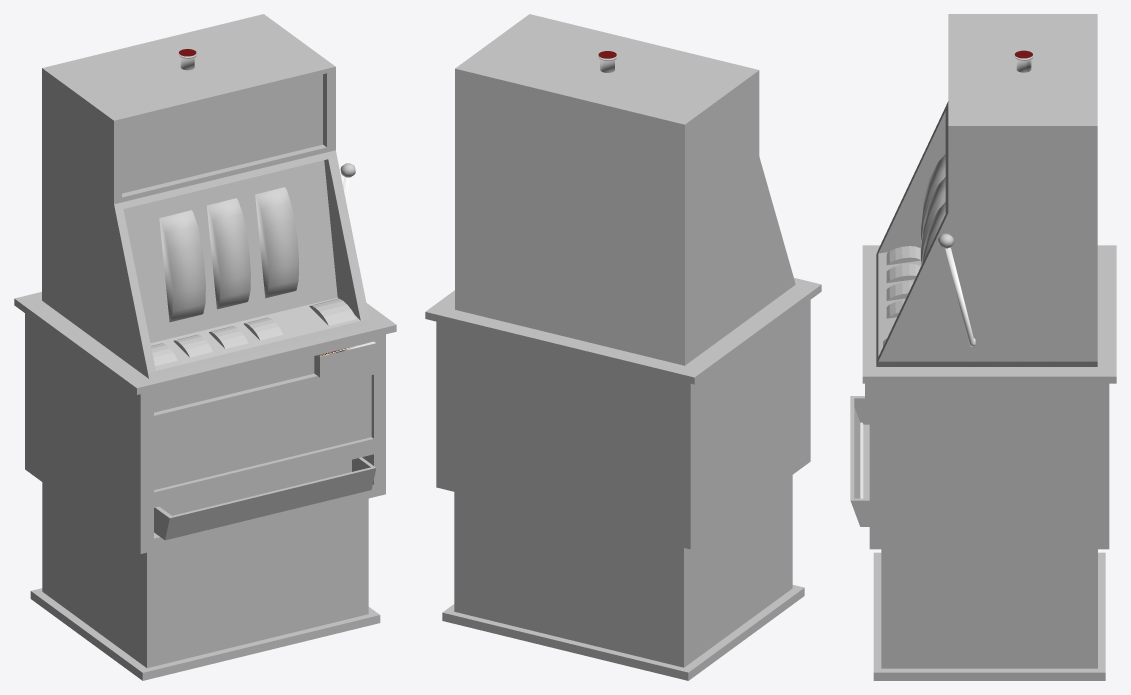
Rendered from SlotMachine.fbx.
3 views of the same model, side by side, from view 1: azimuth 30°, elevation 25°; view 2: azimuth 150°, elevation 25°; view 3: azimuth 270°, elevation 25° (orthographic). The views are drawn at different scales.
Visible parts, largest first — view 1: Cube; view 2: Cube; view 3: Cube.
Part boxes in pixels (x1=…): Cube: x1=14, y1=14, x2=396, y2=680; Cube: x1=425, y1=14, x2=821, y2=680; Cube: x1=850, y1=14, x2=1116, y2=680.
Size of the model in its own units: 6.82 by 13.71 by 5.84.
